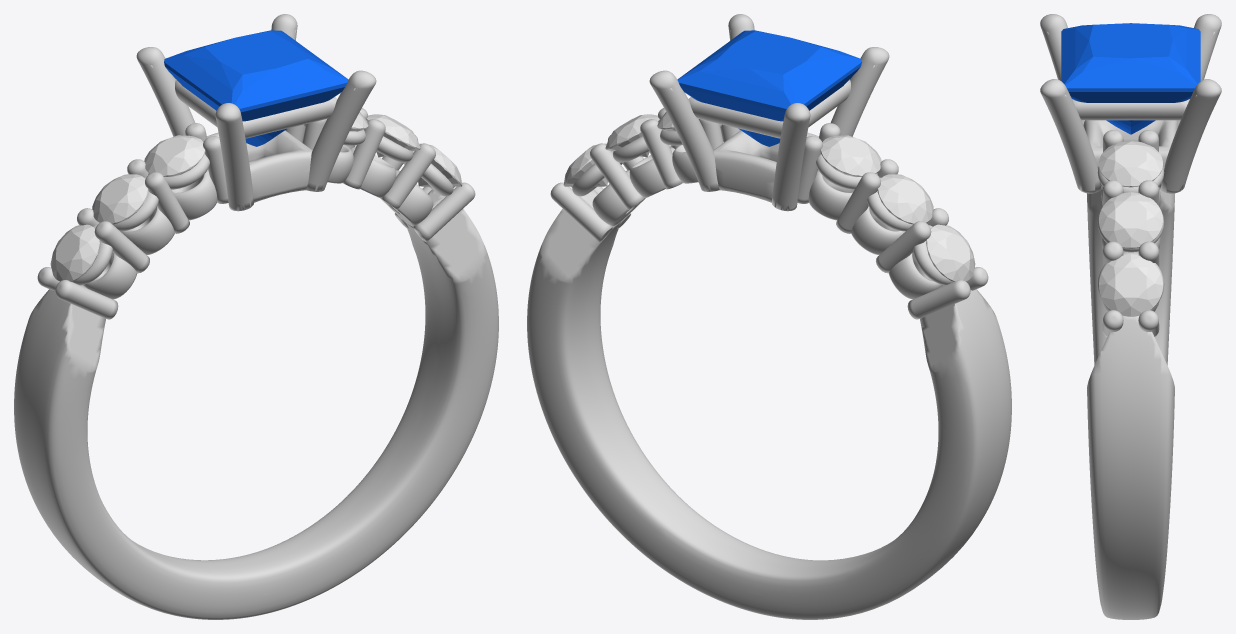
File: bluesapphire-princess-platinum-4prong-straighttaperedband-7stone.glb
3 views of the same model, side by side, from view 1: azimuth 30°, elevation 25°; view 2: azimuth 150°, elevation 25°; view 3: azimuth 270°, elevation 25° (orthographic).
Parts seen in each view (by area): view 1: metal, stone, side, side.001, side.002, side.004, side.005; view 2: metal, stone, side, side.001, side.002, side.004, side.005; view 3: metal, stone, side.005, side.004, side.003.
Boxes of the visible parts, bbox=[...] form: metal: bbox=[14, 14, 498, 619]; stone: bbox=[164, 30, 348, 146]; side: bbox=[50, 224, 99, 281]; side.001: bbox=[92, 174, 148, 224]; side.002: bbox=[144, 135, 205, 176]; side.004: bbox=[366, 114, 420, 157]; side.005: bbox=[418, 143, 462, 186]; metal: bbox=[527, 14, 1011, 619]; stone: bbox=[677, 30, 861, 146]; side: bbox=[926, 224, 975, 281]; side.001: bbox=[877, 174, 933, 224]; side.002: bbox=[820, 135, 881, 176]; side.004: bbox=[605, 114, 659, 157]; side.005: bbox=[563, 143, 607, 186]; metal: bbox=[1040, 14, 1221, 619]; stone: bbox=[1061, 23, 1200, 134]; side.005: bbox=[1099, 254, 1162, 316]; side.004: bbox=[1099, 192, 1162, 248]; side.003: bbox=[1099, 140, 1162, 187].
Size of the model in its own units: 20.51 by 23.86 by 7.08.
